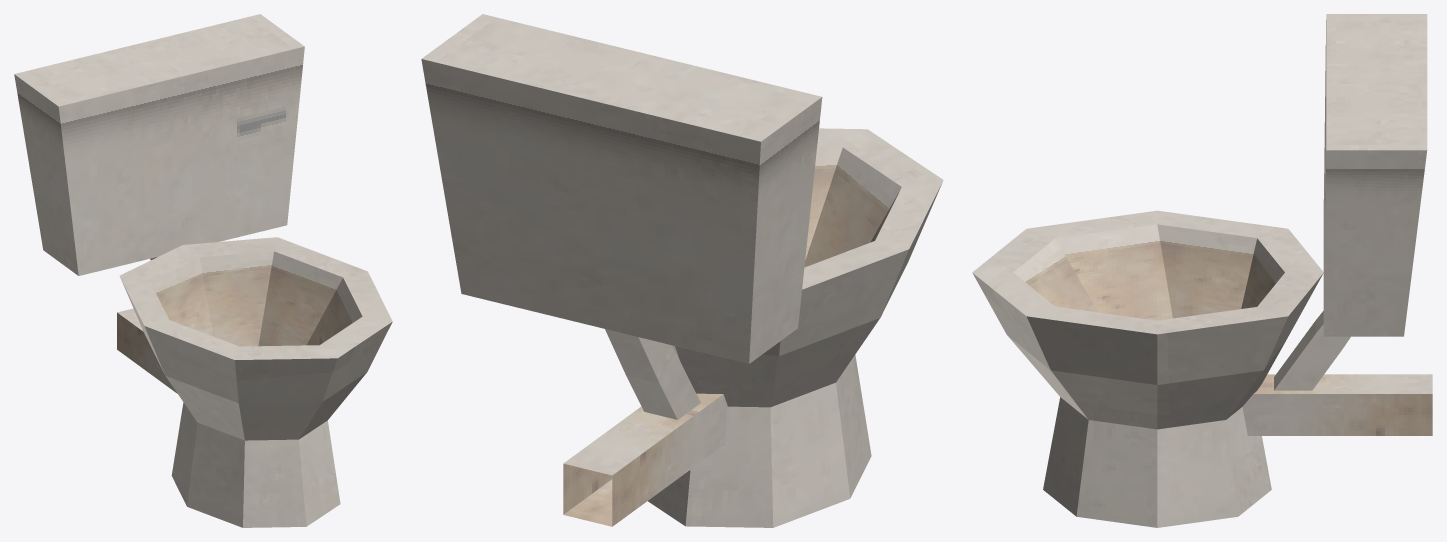
Rendered from toilet.glb.
The picture shows the model from 3 angles, left to right: view 1: azimuth 30°, elevation 25°; view 2: azimuth 150°, elevation 25°; view 3: azimuth 270°, elevation 25°; orthographic projection. The views are drawn at different scales.
Visible parts, largest first — view 1: toilet; view 2: toilet; view 3: toilet.
Boxes of the visible parts, x1,y1,x2,y2 form: toilet: (14,14,392,527); toilet: (421,14,943,527); toilet: (972,14,1432,527).
Bounding box in the file's own units: 0.5999 × 0.8357 × 0.856.
Materials: 1 (1 with a texture image).
